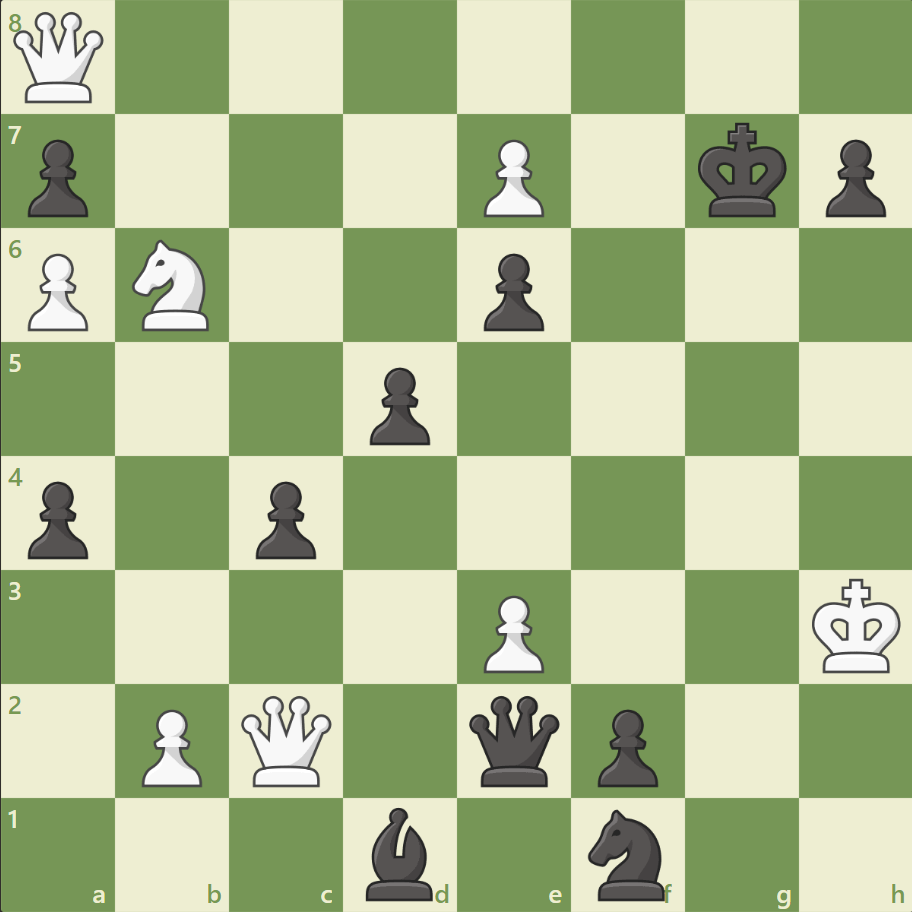K: (806, 571, 906, 679)
N: (124, 234, 222, 337)
P: (474, 132, 549, 223), (20, 246, 95, 337), (474, 586, 549, 677), (133, 700, 208, 791)
Q: (10, 9, 109, 108), (237, 690, 336, 789)
b: (358, 801, 442, 904)
k: (692, 117, 792, 225)
n: (579, 802, 676, 904)
p: (20, 132, 95, 223), (474, 246, 549, 337), (20, 473, 95, 564), (247, 473, 322, 564), (815, 132, 889, 223), (361, 359, 435, 450), (588, 700, 662, 791)
q: (464, 690, 563, 789)
